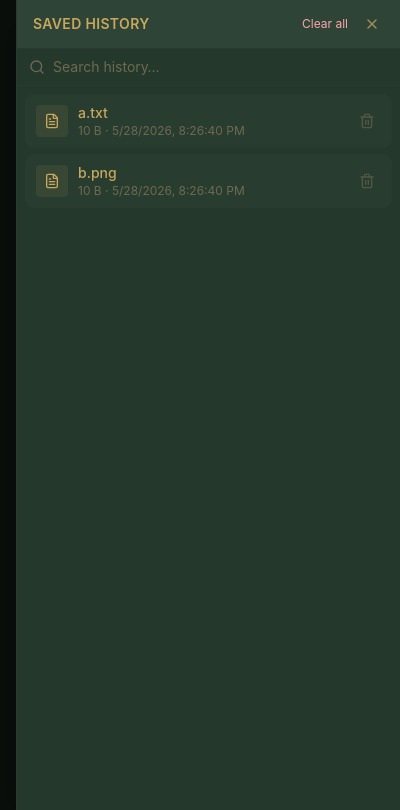
it: HistoryDrawer › filters assets by name and mime
The width and height of the screenshot is (400, 810).
Type "b.png" into the field with placeholder "Search history…".
click(220, 67); type("b.png")  # box 53,57 -> 388,77
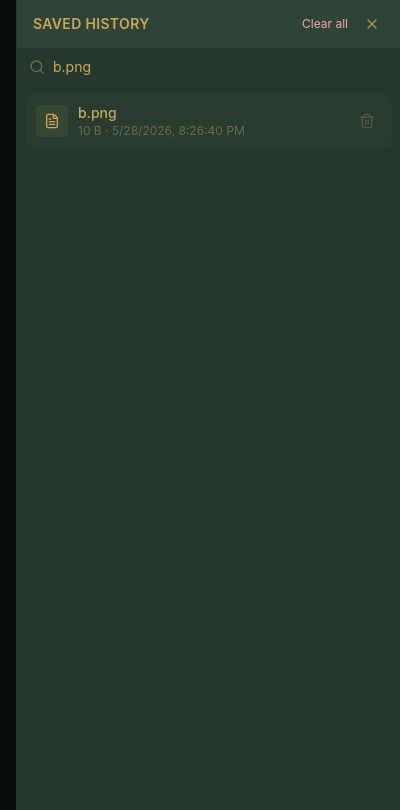
Expected: the text "b.png" is shown, 78,104 -> 117,121
Result: the button "a.txt" is gone
